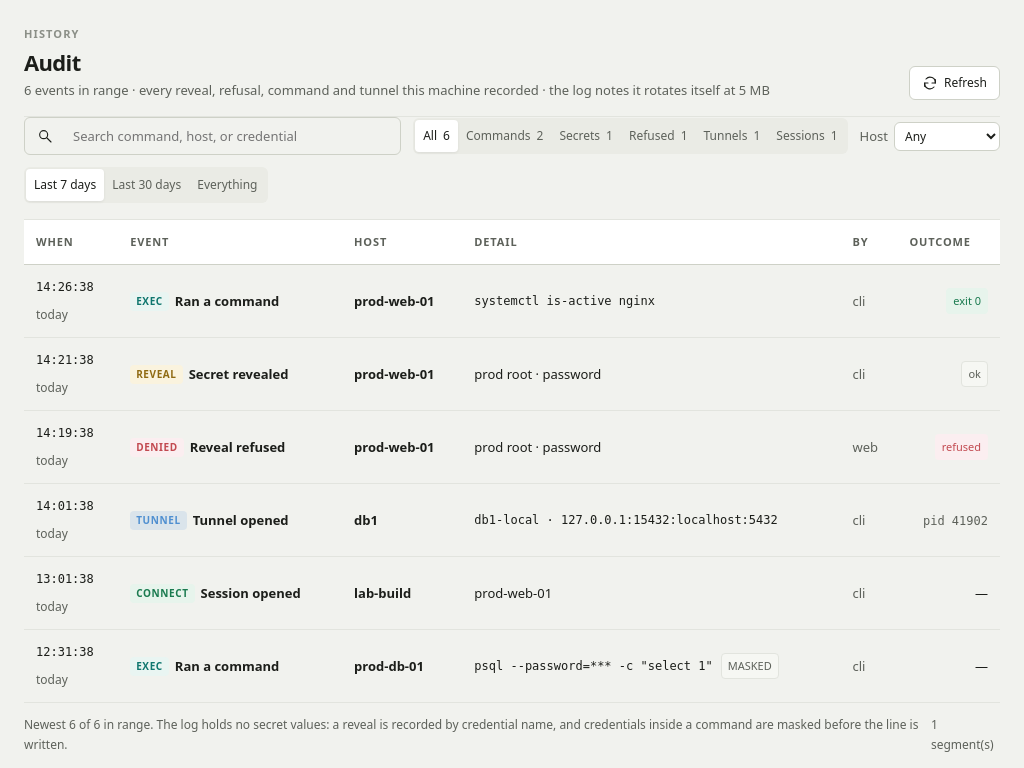
it: filters by event group, by host, and by free text
The image size is (1024, 768).
Click the button "Secrets 1". click: {"x": 586, "y": 136}
box: [551, 120, 621, 152]
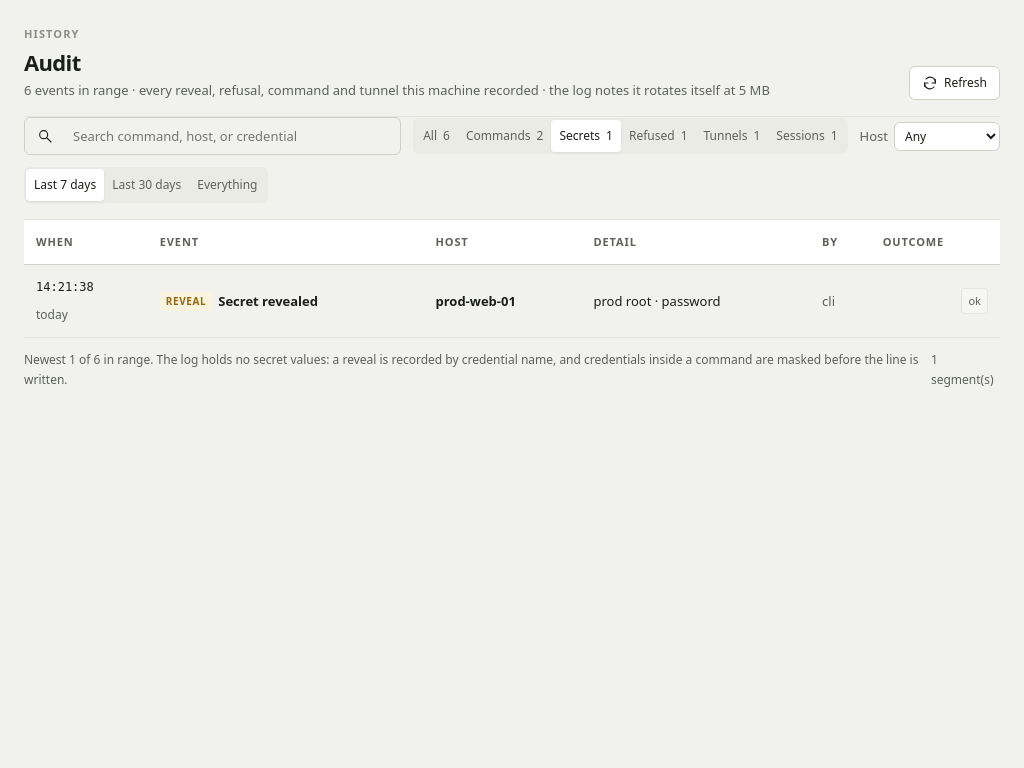
expect the text "Secret revealed" is shown: met, box [218, 291, 318, 311]
expect the text "Tunnel opened" is gone: met
Click the button "All 6". click: {"x": 437, "y": 136}
box: [415, 120, 458, 152]
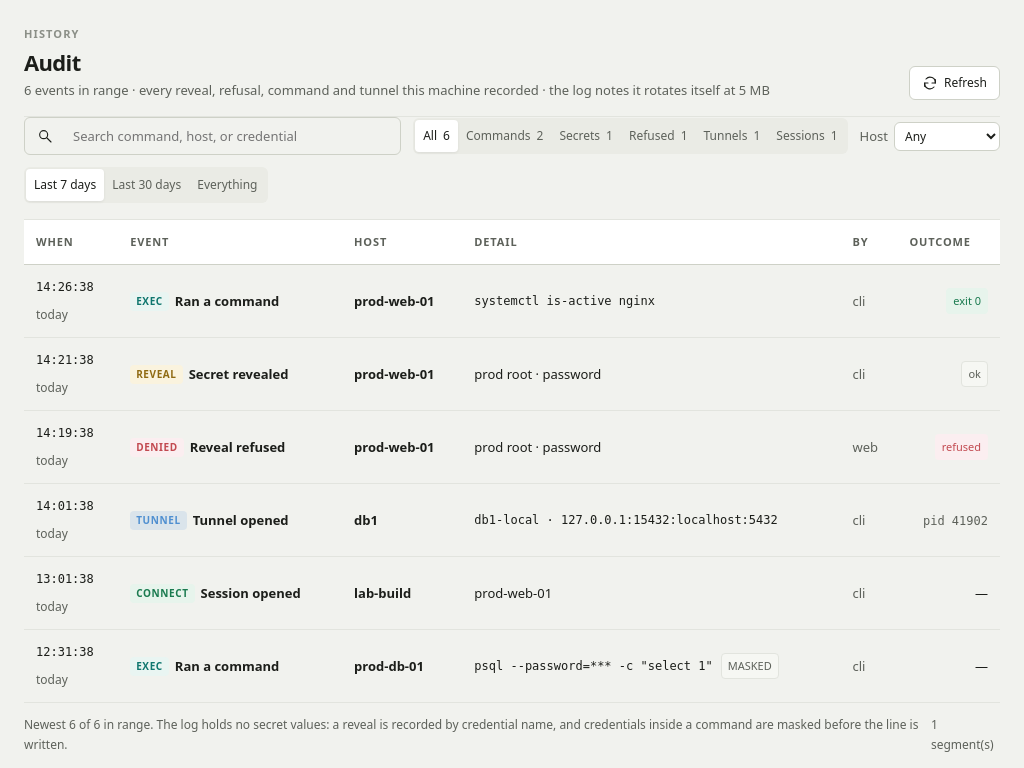
Select "db1" in the dropdown named "Filter by host". click: {"x": 947, "y": 136}
box: [894, 122, 1000, 150]
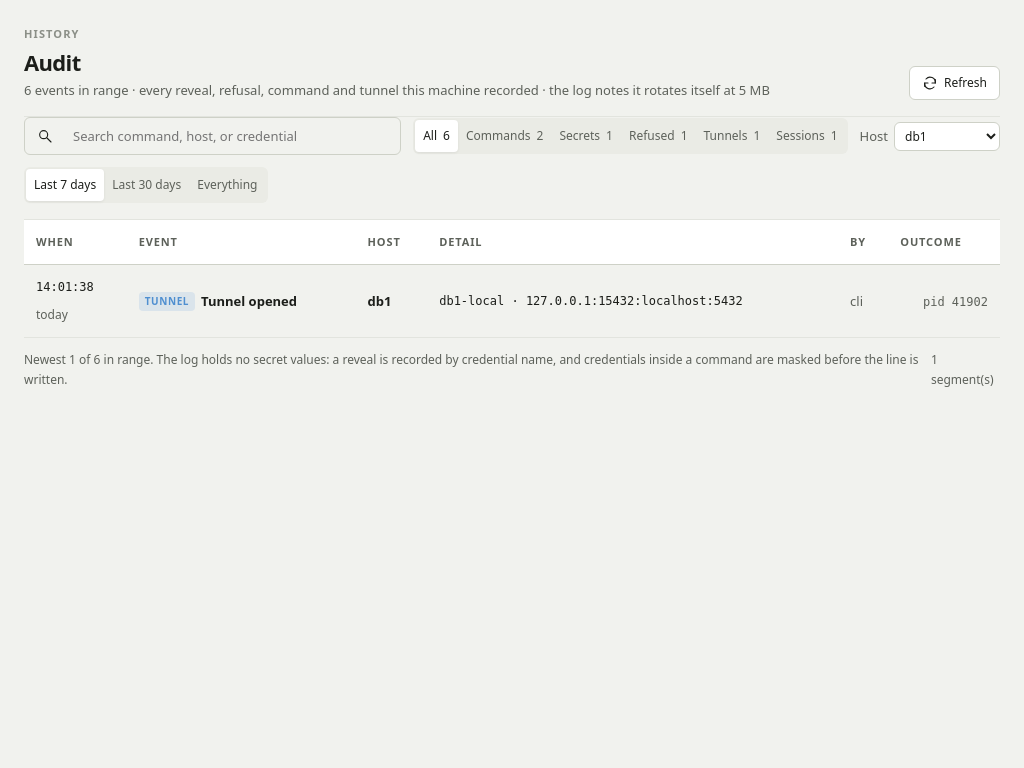
expect the text "Tunnel opened" is shown: met, box [201, 291, 297, 311]
expect the text "Ran a command" is gone: met
Select "Any" in the dropdown named "Filter by host". click: {"x": 947, "y": 136}
box: [894, 122, 1000, 150]
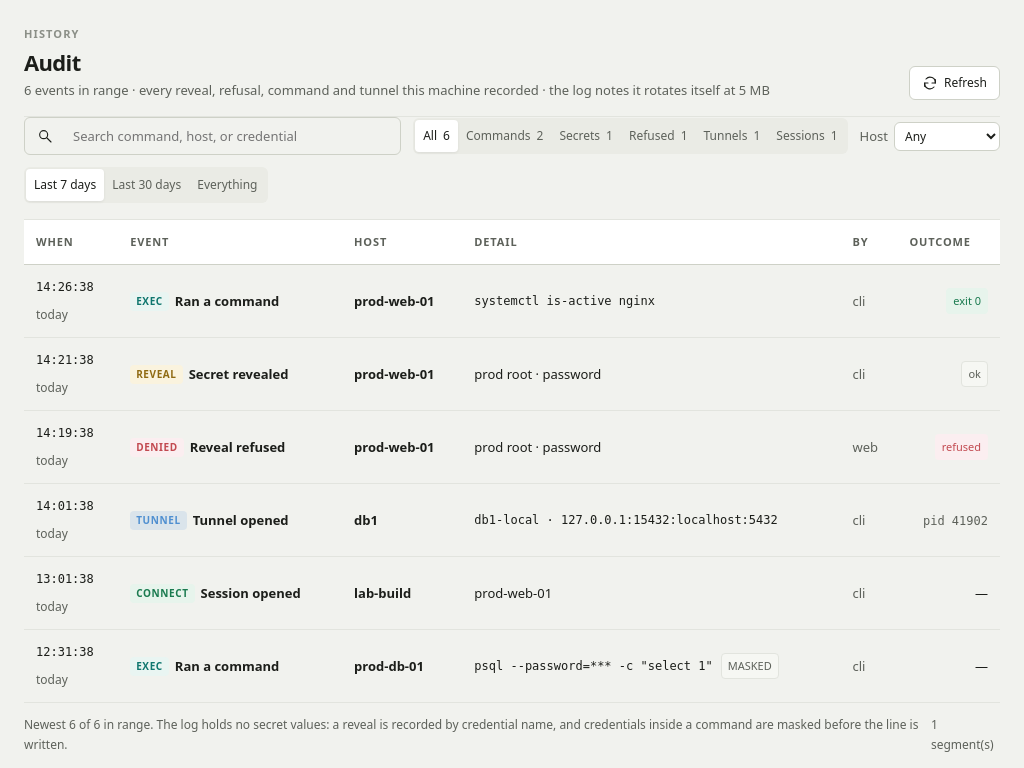
Type "psql" into the field named "Search events". click: {"x": 231, "y": 136}
box: [61, 118, 400, 154]
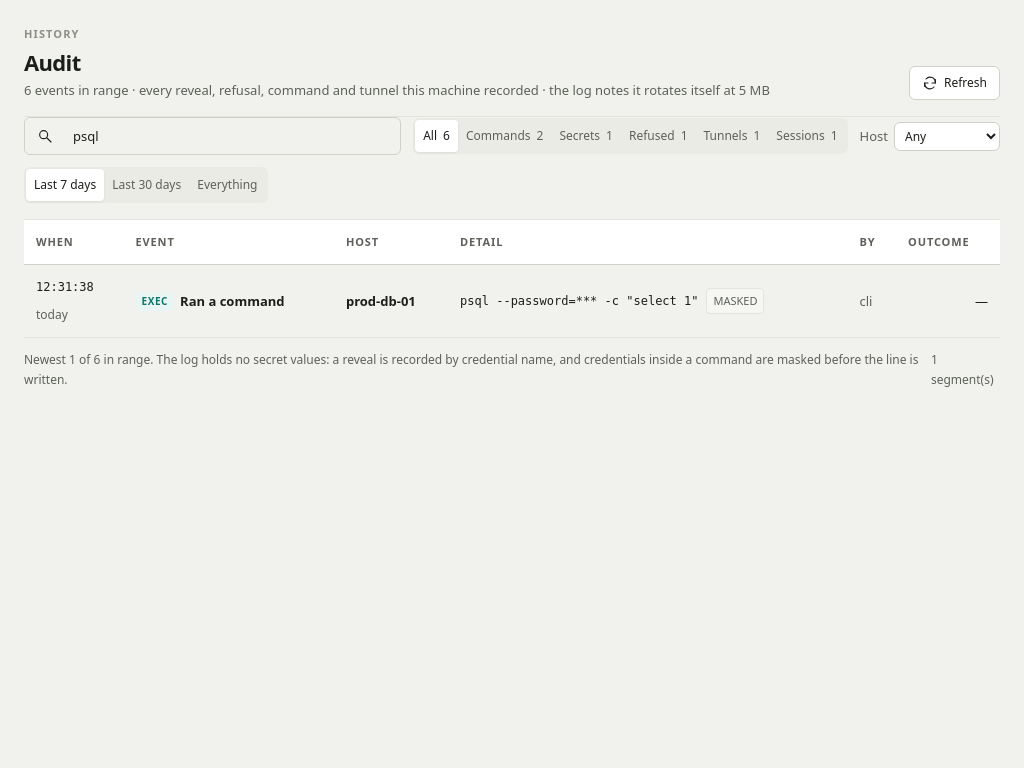
expect the text "MASKED" is shown: met, box [706, 288, 764, 314]
expect the text "Tunnel opened" is gone: met
